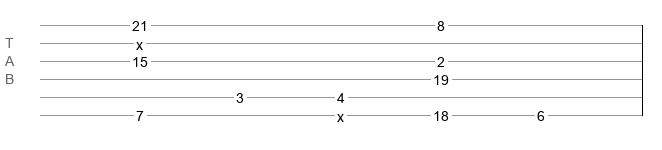15: (132, 54, 148, 64)
18: (433, 108, 449, 118)
19: (433, 72, 449, 82)
2: (437, 54, 445, 64)
21: (132, 18, 148, 28)
3: (236, 90, 244, 100)
4: (337, 90, 345, 100)
6: (537, 108, 545, 118)
7: (136, 108, 144, 118)
8: (437, 18, 445, 28)
x: (136, 37, 143, 45), (337, 109, 344, 117)
